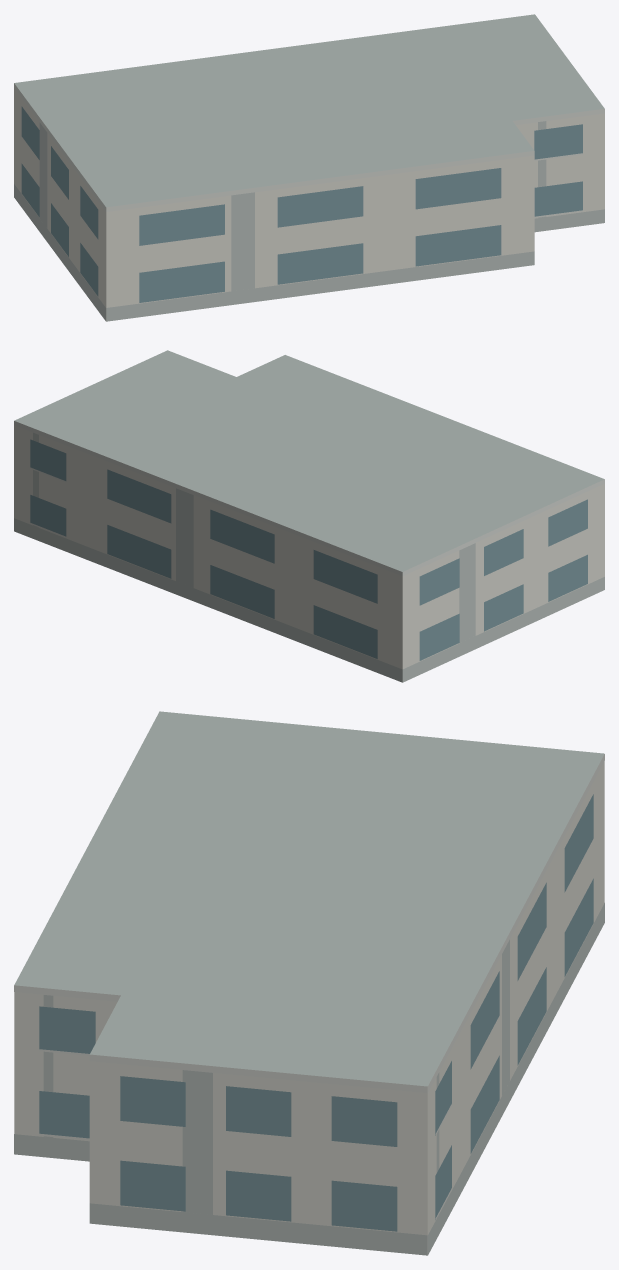
The model's file is residential-a024cd24-eee2-4e4c-913a-840a4c17125c.glb.
3 views of the same model, one above another, from view 1: azimuth 30°, elevation 25°; view 2: azimuth 150°, elevation 25°; view 3: azimuth 270°, elevation 25° (orthographic). The views are drawn at different scales.
Visible parts, largest first — view 1: residential-a024cd24-eee2-4e4c-913a-840a4c17125c.tmp; view 2: residential-a024cd24-eee2-4e4c-913a-840a4c17125c.tmp; view 3: residential-a024cd24-eee2-4e4c-913a-840a4c17125c.tmp.
Boxes of the visible parts, left/top/right/bottom form: residential-a024cd24-eee2-4e4c-913a-840a4c17125c.tmp: left=14, top=14, right=604, bottom=321; residential-a024cd24-eee2-4e4c-913a-840a4c17125c.tmp: left=14, top=350, right=604, bottom=682; residential-a024cd24-eee2-4e4c-913a-840a4c17125c.tmp: left=14, top=711, right=604, bottom=1255.
Bounding box in the file's own units: 29.04 × 6.1 × 19.33.
